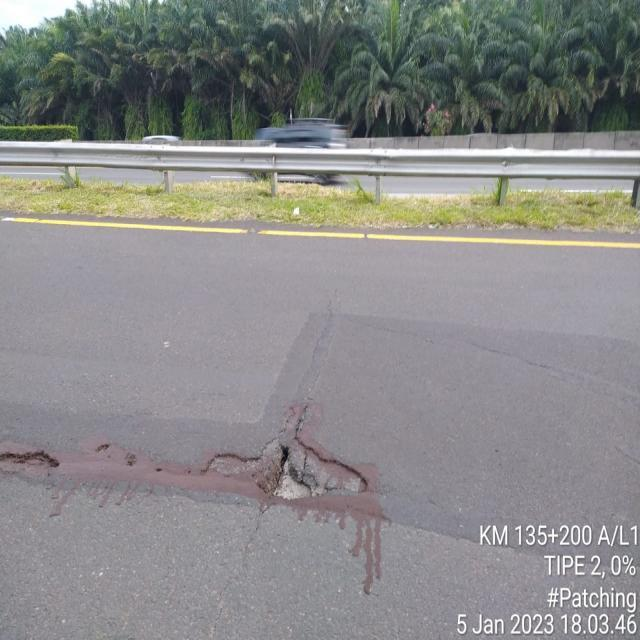Buraco: (198, 403, 372, 505), (0, 448, 62, 470)
